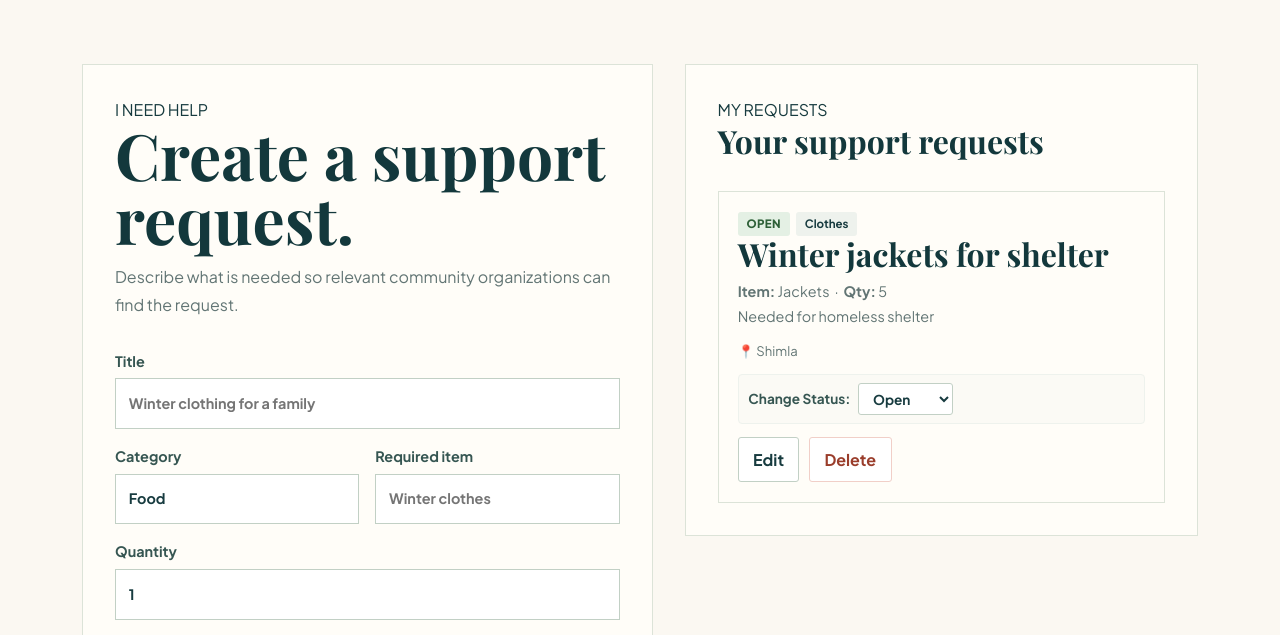
Feature 11: HelpRequestsPage Component › User views own help requests and can change status via selector
Expected: the text "Loading requests..." is shown, [718, 191, 1165, 502]
Expected: the heading "Winter jackets for shelter" is shown, [738, 236, 1145, 273]
# User changes status to fulfilled
Select "Fulfilled" in the dropdown showing "Open" at (906, 399), box [858, 383, 953, 415]
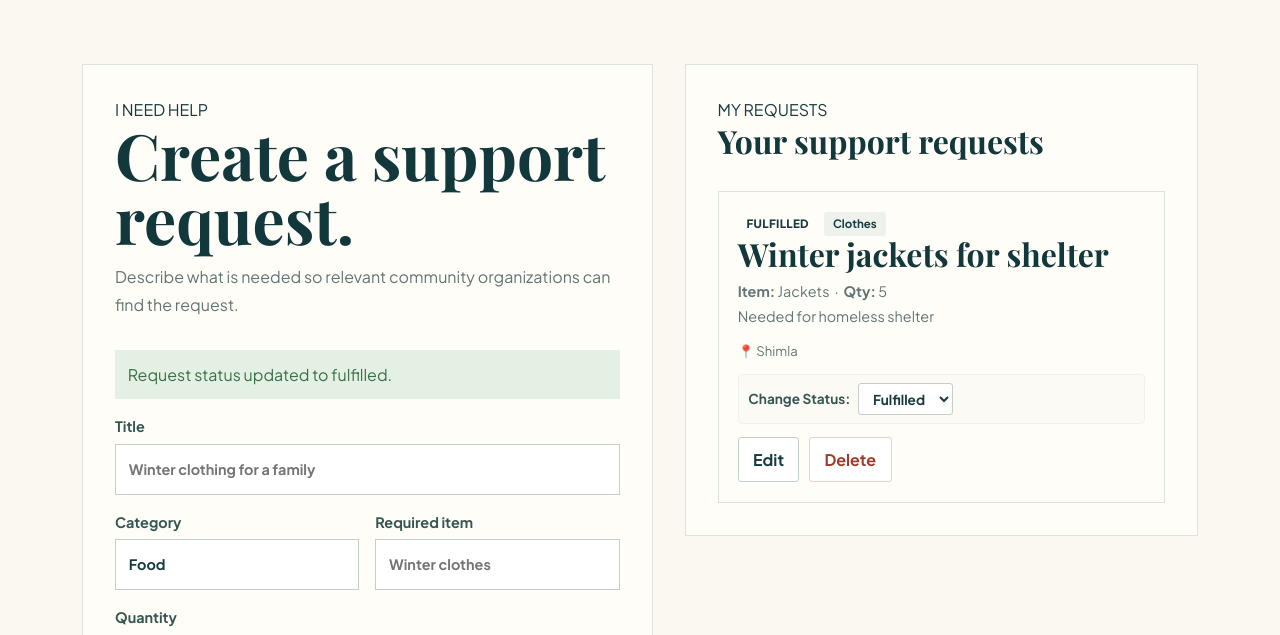
Result: the text "Request status updated to fulfilled." is shown at [115, 350, 620, 399]
